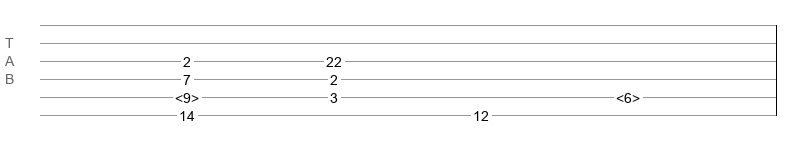12: (473, 108, 489, 118)
14: (179, 108, 195, 118)
2: (183, 54, 191, 64), (330, 72, 338, 82)
22: (326, 54, 342, 64)
3: (330, 90, 338, 100)
7: (183, 72, 191, 82)
harmonic: (175, 90, 199, 100), (616, 90, 640, 100)
